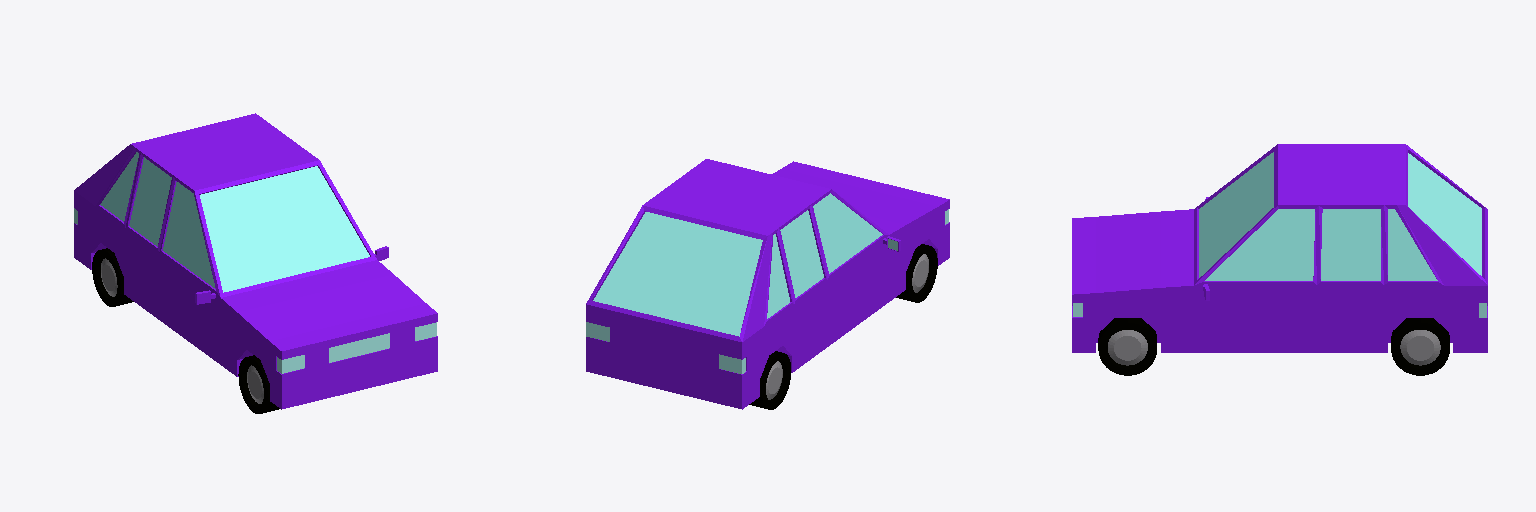
3 views of the same model, side by side, from view 1: azimuth 30°, elevation 25°; view 2: azimuth 150°, elevation 25°; view 3: azimuth 270°, elevation 25° (orthographic).
Parts seen in each view (by area): view 1: Car_Car1_Cube.002; view 2: Car_Car1_Cube.002; view 3: Car_Car1_Cube.002.
Boxes of the visible parts, x1,y1,x2,y2 form: Car_Car1_Cube.002: [74, 113, 437, 413]; Car_Car1_Cube.002: [586, 159, 949, 409]; Car_Car1_Cube.002: [1072, 144, 1487, 375].
Size of the model in its own units: 2.46 by 1.99 by 4.6.
1 materials, 1 textured.